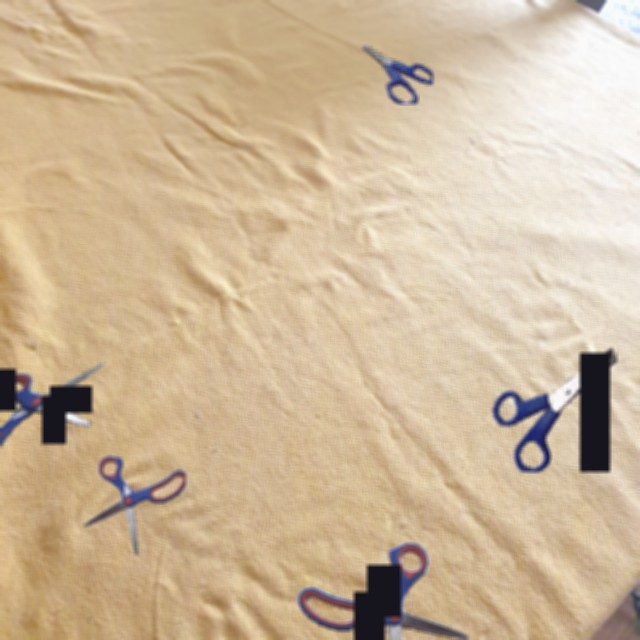scissors: (297, 542, 468, 640), (492, 347, 617, 472), (0, 362, 105, 468), (84, 456, 186, 555), (362, 45, 433, 104)
